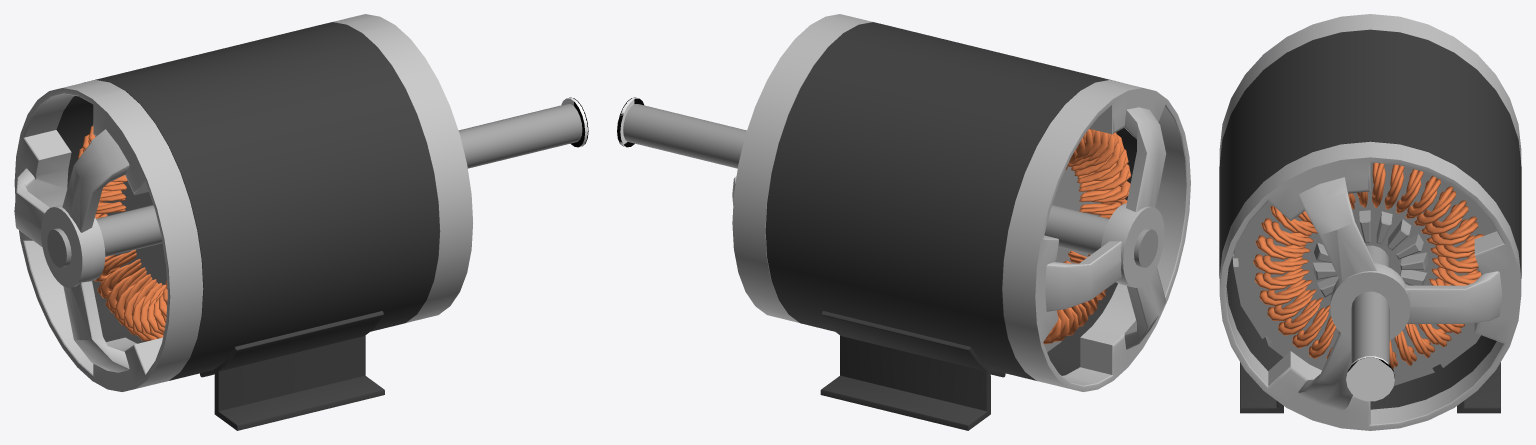
File: Motor.fbx
The picture shows the model from 3 angles, left to right: view 1: azimuth 30°, elevation 25°; view 2: azimuth 150°, elevation 25°; view 3: azimuth 270°, elevation 25°; orthographic projection. The views are drawn at different scales.
Visible parts, largest first — view 1: stator, Back Cap, Front cap, shaft, Copper Windings, Rotor core; view 2: stator, Back Cap, Front cap, shaft, Copper Windings, Rotor core; view 3: stator, Front cap, Copper Windings, Rotor core, Back Cap, shaft, fins.
Boxes of the visible parts, bbox=[...] form: stator: bbox=[56, 22, 439, 430]; Back Cap: bbox=[14, 80, 203, 391]; Front cap: bbox=[333, 14, 472, 322]; shaft: bbox=[47, 97, 588, 267]; Copper Windings: bbox=[78, 126, 167, 341]; Rotor core: bbox=[92, 124, 166, 285]; stator: bbox=[765, 22, 1136, 430]; Back Cap: bbox=[1002, 80, 1190, 391]; Front cap: bbox=[732, 14, 872, 322]; shaft: bbox=[617, 97, 1158, 267]; Copper Windings: bbox=[1043, 129, 1131, 344]; Rotor core: bbox=[1044, 166, 1111, 352]; stator: bbox=[1219, 29, 1521, 413]; Front cap: bbox=[1219, 141, 1521, 430]; Copper Windings: bbox=[1253, 163, 1483, 369]; Rotor core: bbox=[1232, 162, 1496, 385]; Back Cap: bbox=[1219, 14, 1521, 162]; shaft: bbox=[1346, 245, 1394, 401]; fins: bbox=[1312, 210, 1428, 300].
Size of the model in its own units: 1935 by 1075 by 1006.
7 materials, 1 textured.
